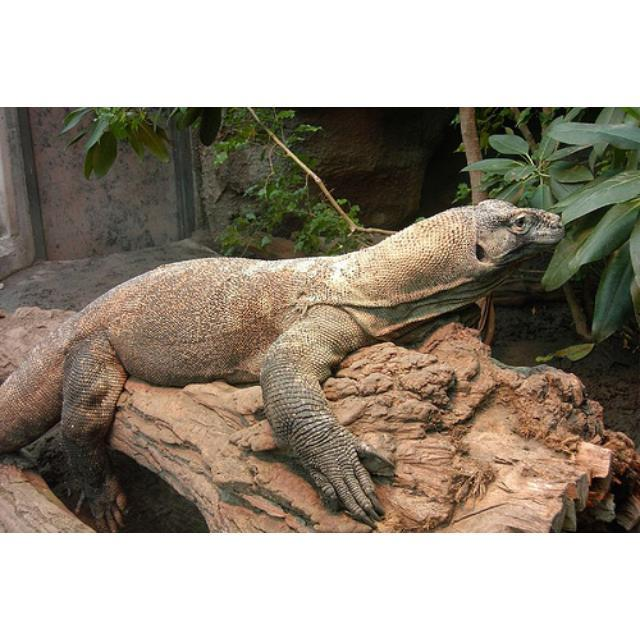KomodoDragon: (0, 192, 602, 531)
